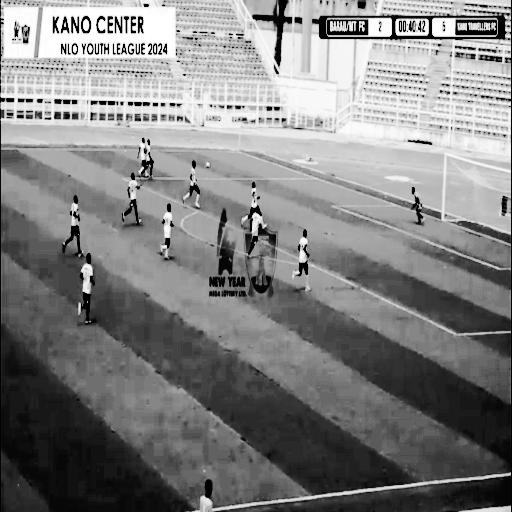ball: (204, 153, 214, 175)
keeper2: (406, 176, 435, 245)
team1: (290, 224, 312, 298), (240, 172, 266, 228), (157, 200, 178, 266), (184, 160, 204, 216), (137, 131, 148, 176)
team2: (72, 252, 100, 330), (118, 170, 149, 234), (59, 188, 84, 262), (241, 206, 269, 263), (144, 137, 157, 185)
